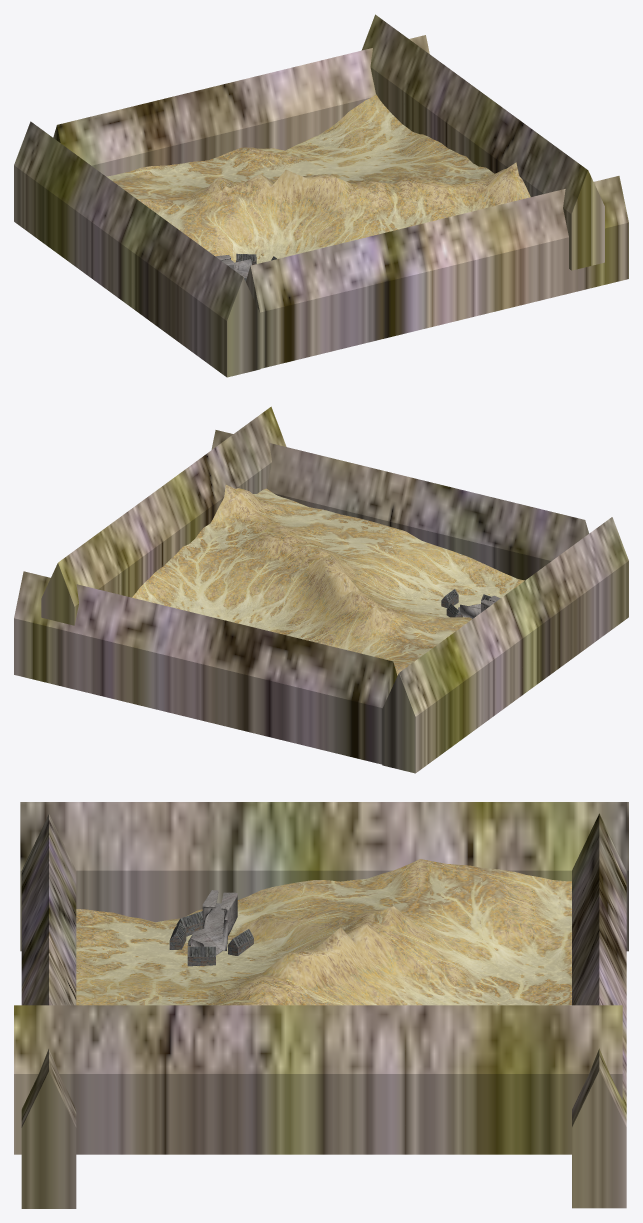
File: desert.fbx
3 renders of one model, top to bottom at view 1: azimuth 30°, elevation 25°; view 2: azimuth 150°, elevation 25°; view 3: azimuth 270°, elevation 25°, orthographic. The views are drawn at different scales.
Parts seen in each view (by area): view 1: dom.006, terrain, dom.004, dom.005, dom.007; view 2: dom.005, terrain, dom.004, dom.006, dom.007; view 3: dom.007, terrain, dom.004, dom.005, dom.006, ground, dom.
Boxes of the visible parts, bbox=[...] form: dom.006: bbox=[246, 176, 628, 368]; terrain: bbox=[106, 94, 530, 263]; dom.004: bbox=[14, 121, 260, 377]; dom.005: bbox=[53, 35, 429, 176]; dom.007: bbox=[361, 14, 604, 270]; dom.005: bbox=[14, 571, 397, 764]; terrain: bbox=[132, 485, 524, 675]; dom.004: bbox=[382, 517, 628, 773]; dom.006: bbox=[211, 430, 588, 580]; dom.007: bbox=[41, 406, 286, 625]; dom.007: bbox=[14, 1005, 622, 1154]; terrain: bbox=[76, 859, 571, 1005]; dom.004: bbox=[20, 802, 628, 951]; dom.005: bbox=[572, 813, 626, 1208]; dom.006: bbox=[21, 814, 76, 1208]; ground: bbox=[187, 890, 237, 955]; dom: bbox=[187, 946, 215, 966].
Bounding box in the file's own units: 1195 × 344 × 1106.
8 materials, 8 textured.
